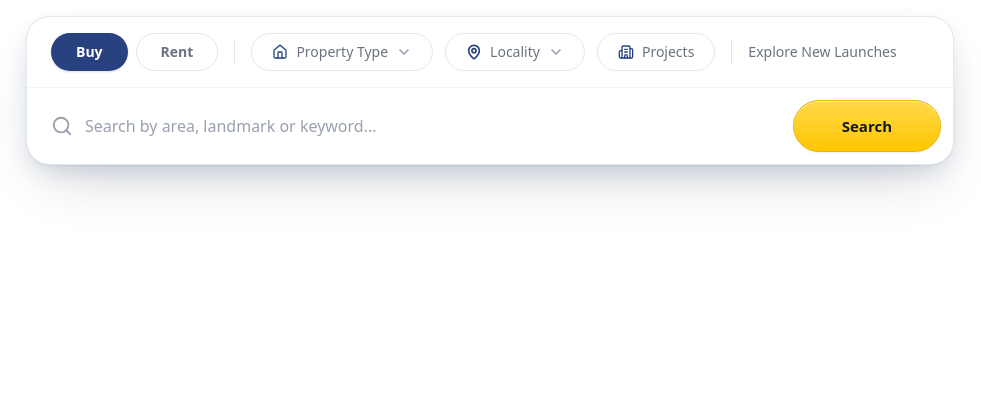
Test case: HomeSearch responsive search bar › toggles the property type dropdown and rotates its arrow
Click the button "Property Type" at (342, 52), box [251, 33, 433, 71]
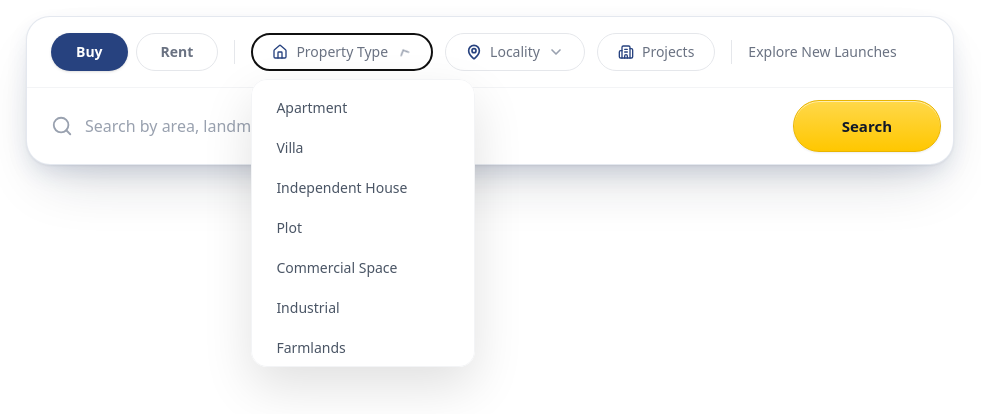
Expected: the button "Property Type" is expanded, [251, 33, 433, 71]
Expected: the option "Apartment" is shown
Click the option "Apartment" at (363, 108), box [260, 88, 466, 128]
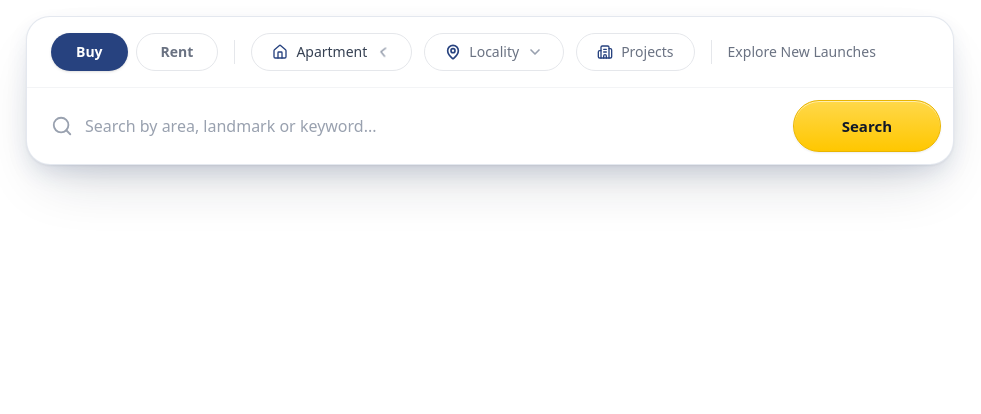
Expected: the button named "property type" is collapsed, [251, 33, 412, 71]
Expected: the text "Apartment" is shown, [296, 45, 367, 59]
